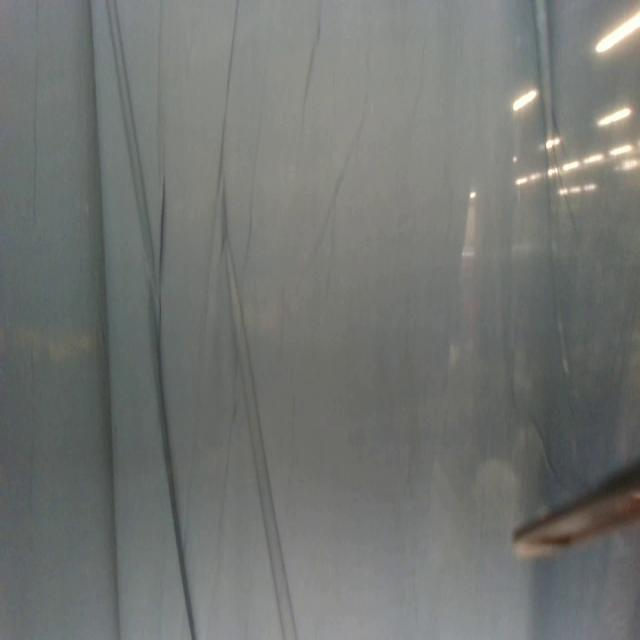crease: (106, 0, 198, 639), (222, 229, 298, 635), (85, 0, 122, 636), (212, 0, 240, 193)
